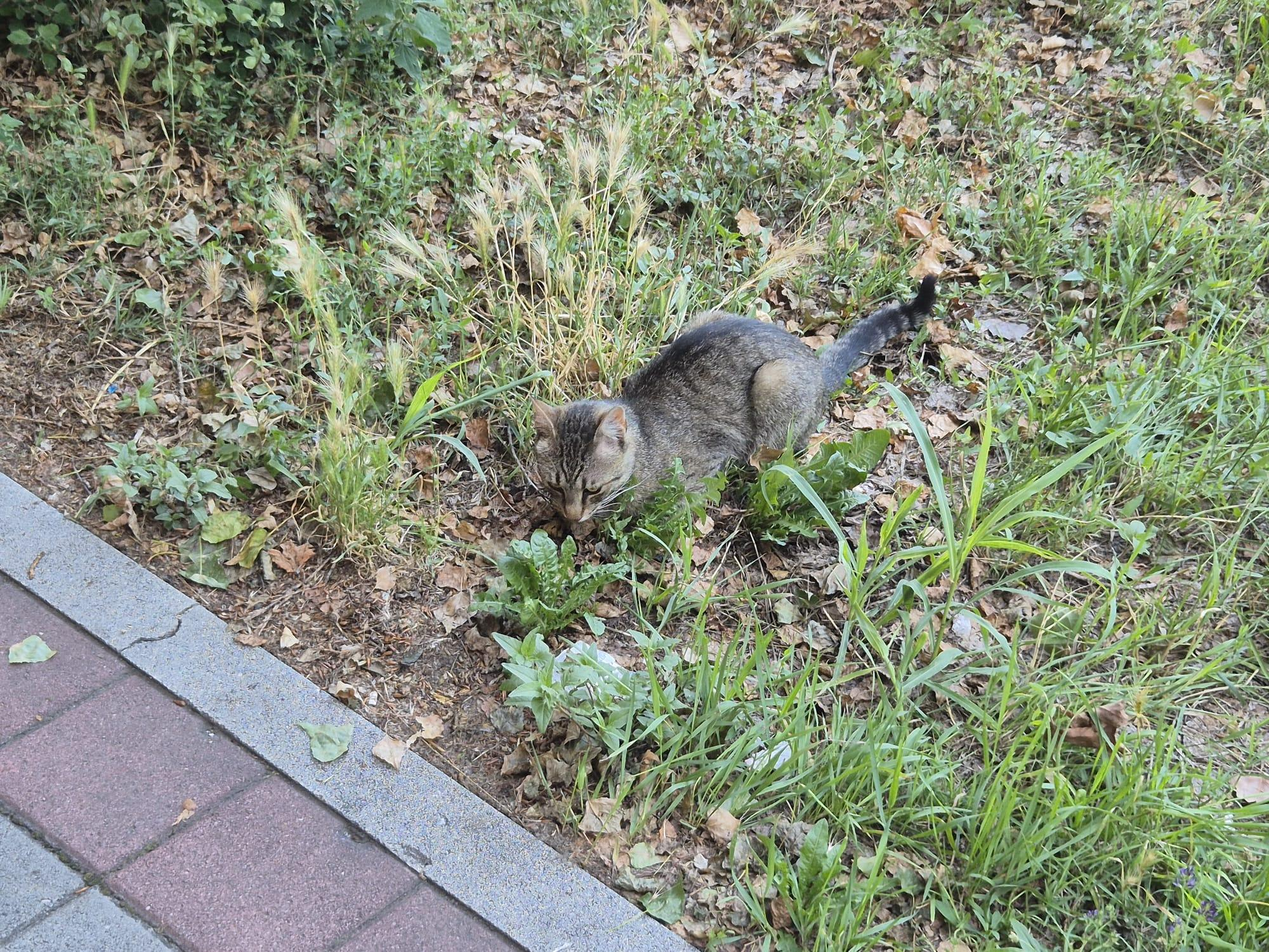macka: (533, 273, 937, 521)
